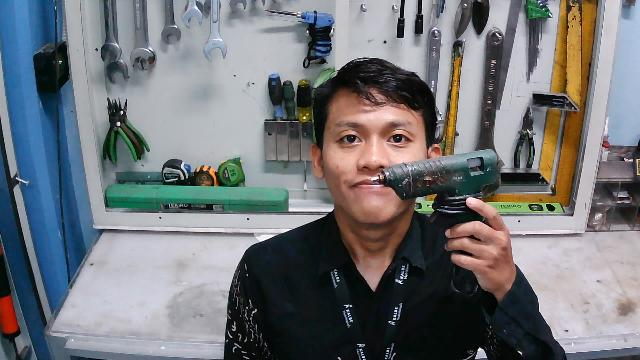gun_lem: (368, 147, 507, 299)
